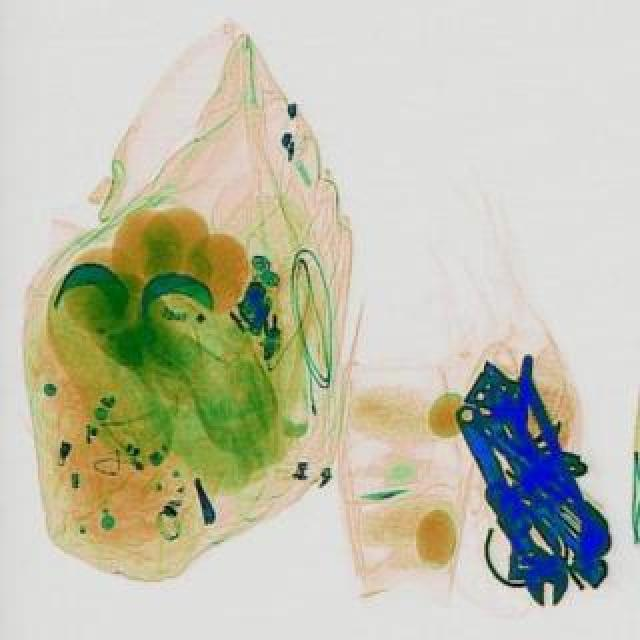scissors: (438, 394, 578, 610)
